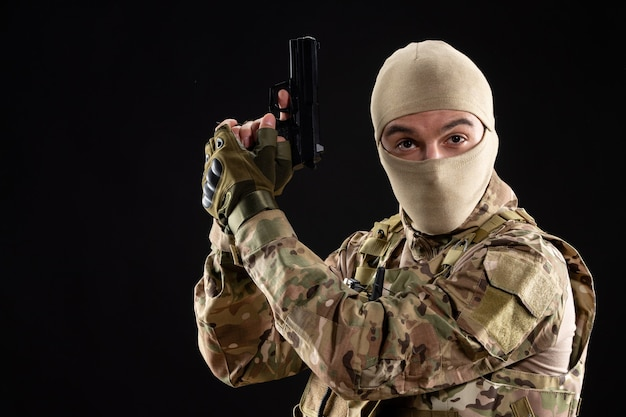gun: (257, 33, 327, 169)
